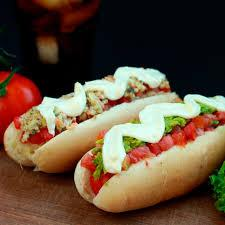Completos: (7, 59, 178, 175), (79, 96, 225, 224)
